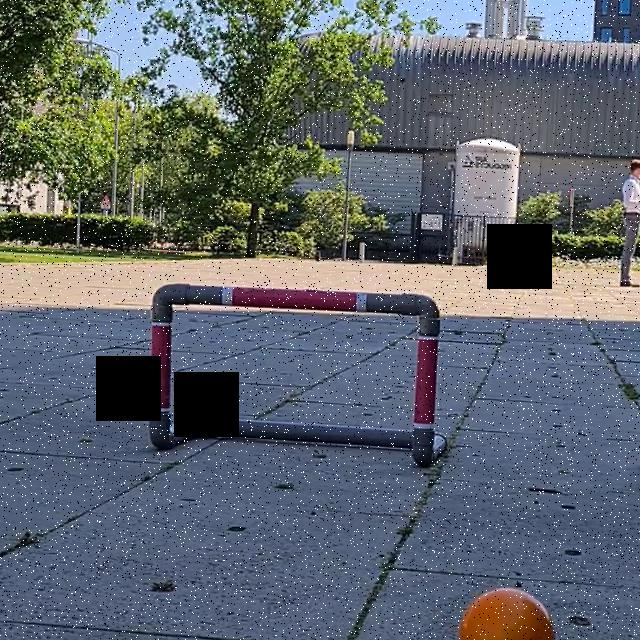ball: (458, 585, 560, 640)
